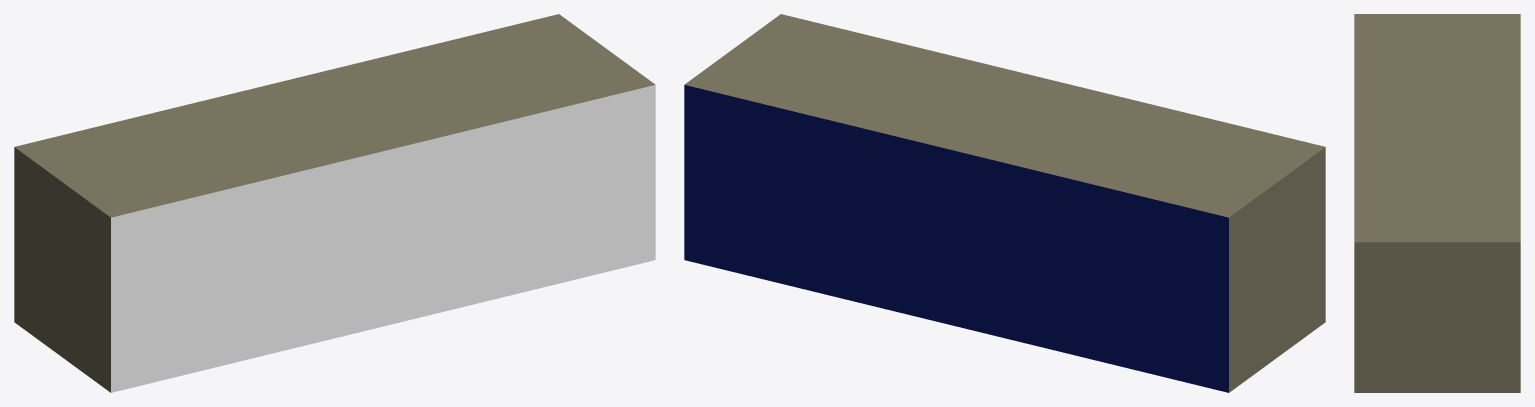
File: Cubes.obj
3 views of the same model, side by side, from view 1: azimuth 30°, elevation 25°; view 2: azimuth 150°, elevation 25°; view 3: azimuth 270°, elevation 25° (orthographic). The views are drawn at different scales.
Visible parts, largest first — view 1: Cube_Cube.017; view 2: Cube_Cube.017; view 3: Cube_Cube.017.
Part boxes in pixels (bbox=[...]): Cube_Cube.017: bbox=[14, 14, 655, 392]; Cube_Cube.017: bbox=[684, 14, 1325, 392]; Cube_Cube.017: bbox=[1354, 14, 1520, 392].
Bounding box in the file's own units: 6.5 × 2.02 × 2.
